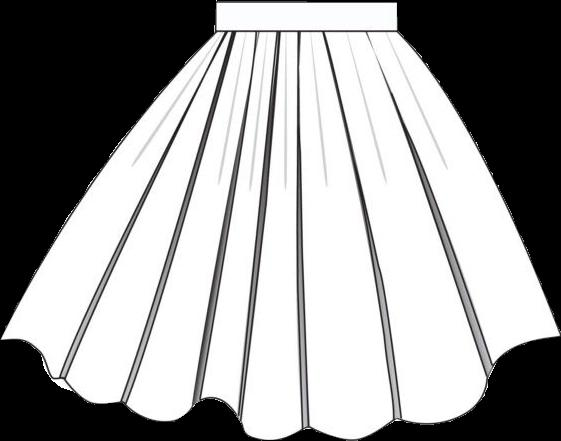Hemline: (0, 333, 560, 440)
Waistline: (213, 25, 398, 34), (215, 0, 398, 7)
